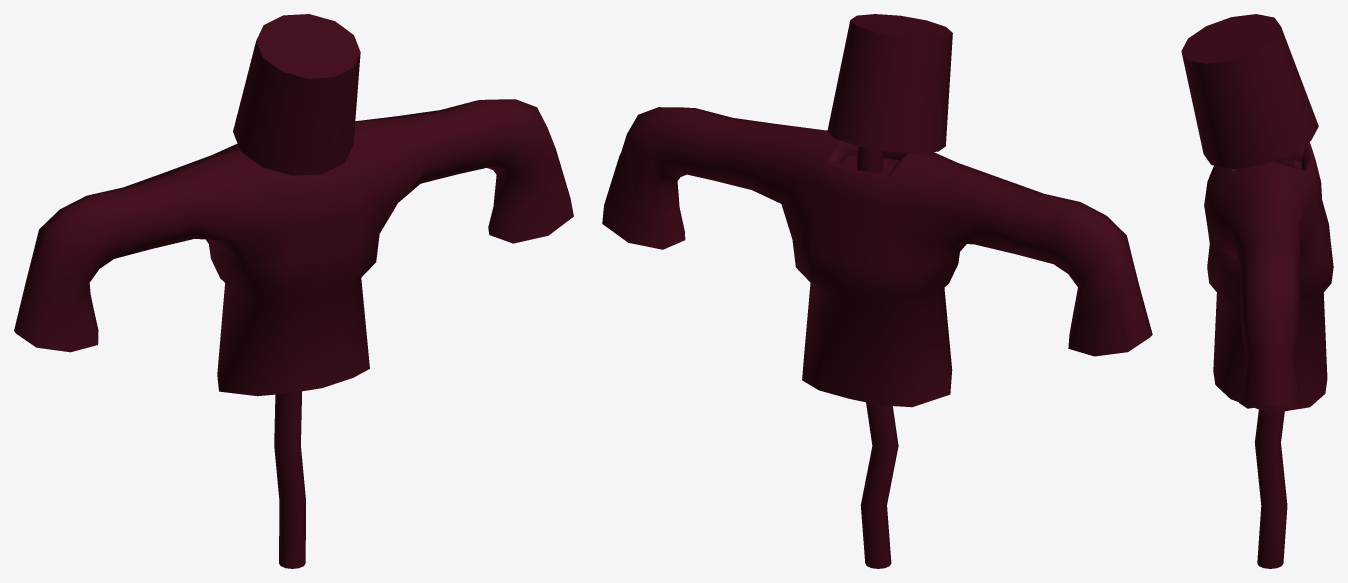
Rendered from ScareCrow.fbx.
The picture shows the model from 3 angles, left to right: view 1: azimuth 30°, elevation 25°; view 2: azimuth 150°, elevation 25°; view 3: azimuth 270°, elevation 25°; orthographic projection.
Parts seen in each view (by area): view 1: ScareCrow; view 2: ScareCrow; view 3: ScareCrow.
Part boxes in pixels (x1=…): ScareCrow: x1=14, y1=14, x2=573, y2=568; ScareCrow: x1=602, y1=14, x2=1152, y2=568; ScareCrow: x1=1181, y1=14, x2=1333, y2=568.
Bounding box in the file's own units: 18.45 × 17.32 × 4.47.
